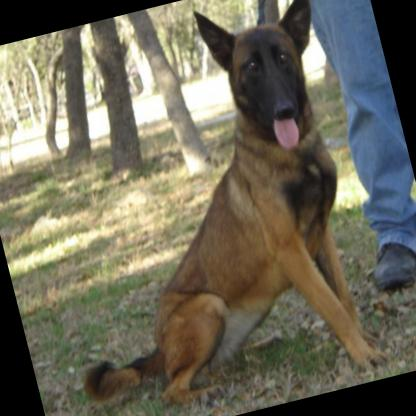malinois: (0, 0, 403, 416)
